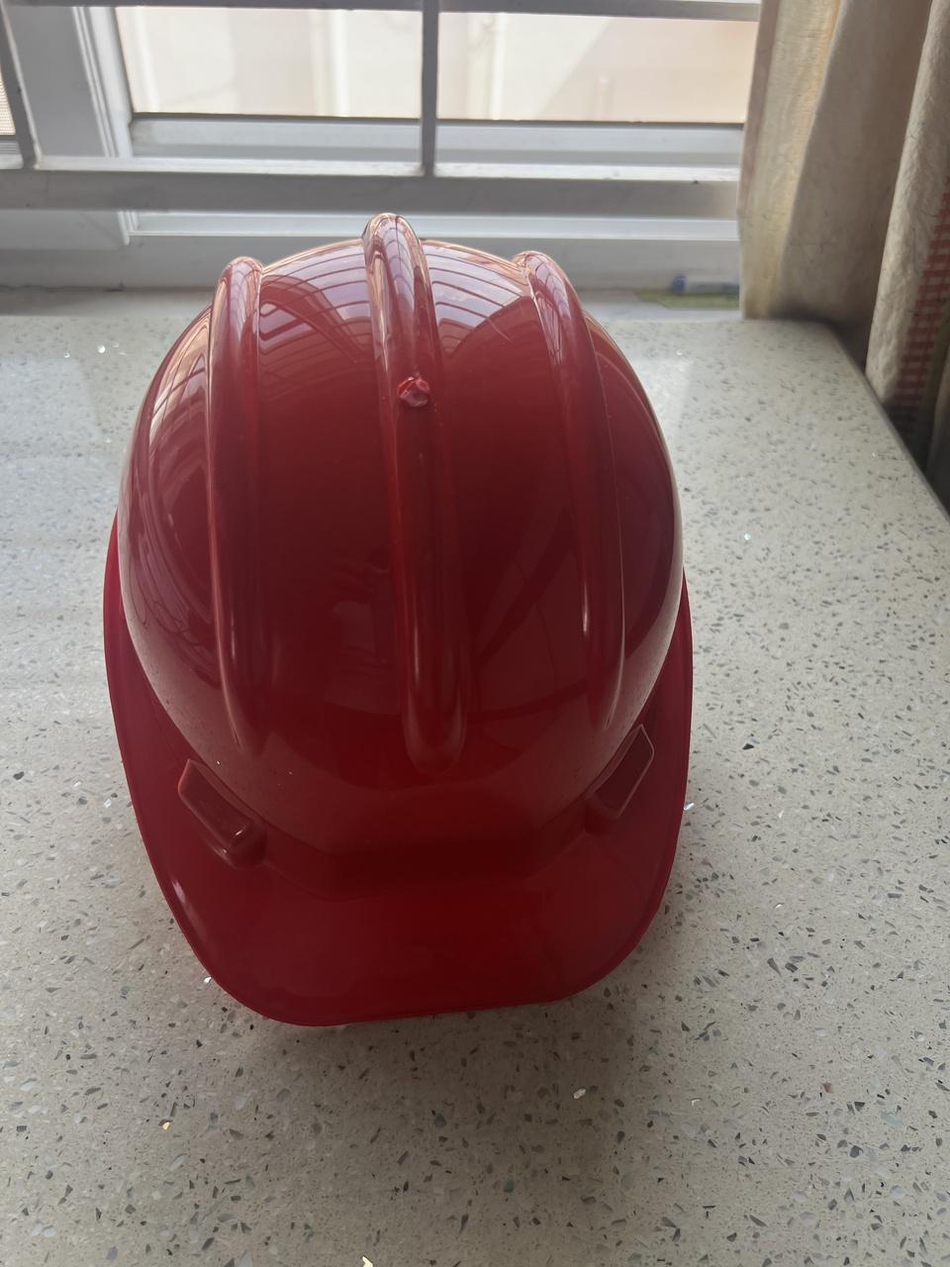Helmet: (103, 213, 694, 1027)
